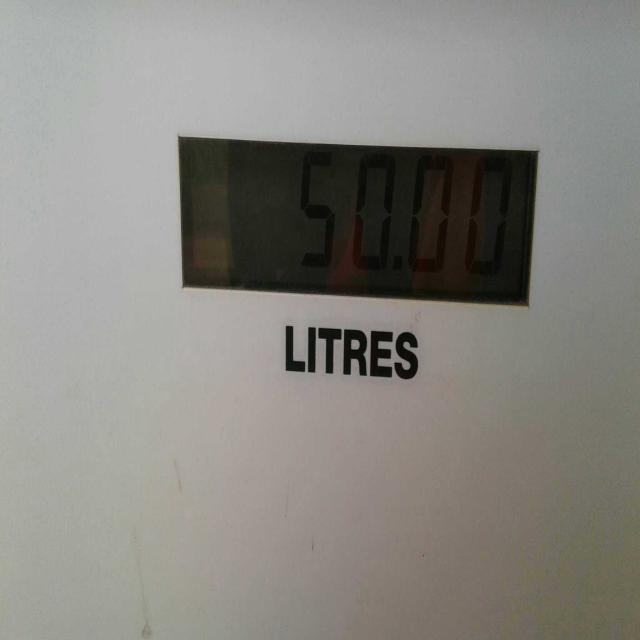.: (389, 243, 408, 293)
0: (400, 138, 458, 291), (463, 154, 520, 300), (347, 146, 399, 294)
5: (301, 146, 346, 285)
